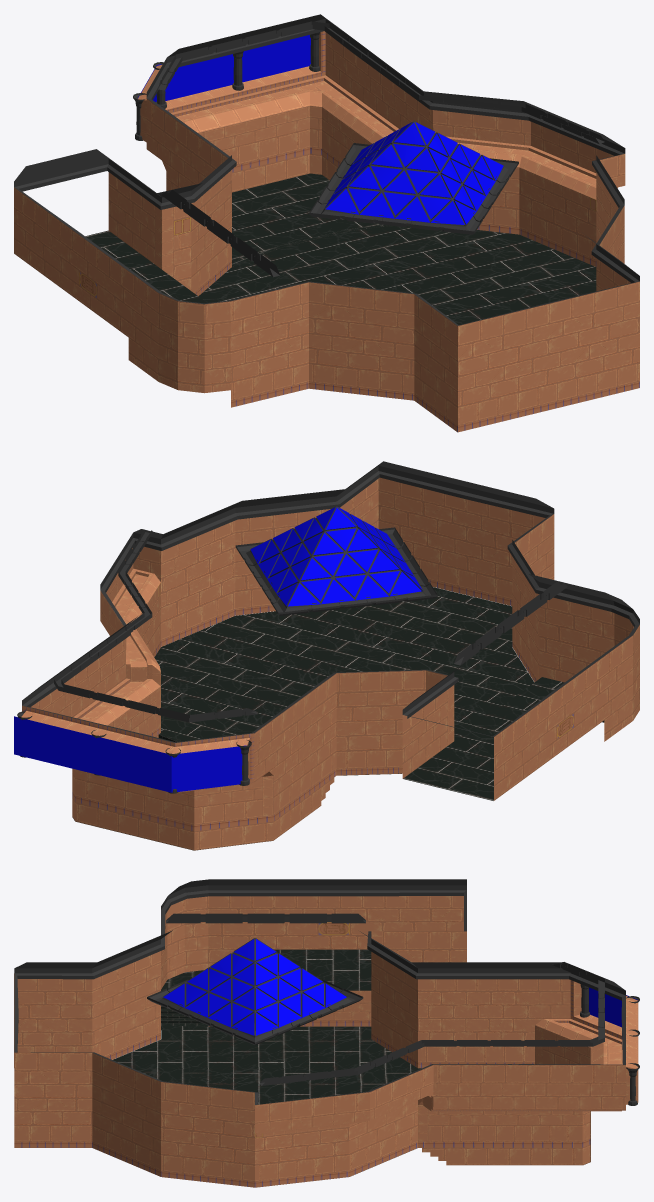
3 renders of one model, top to bottom at view 1: azimuth 30°, elevation 25°; view 2: azimuth 150°, elevation 25°; view 3: azimuth 270°, elevation 25°, orthographic. The views are drawn at different scales.
Parts seen in each view (by area): view 1: SM_LDWall_001, SM_Rest_001, SM_LdGround_001; view 2: SM_LDWall_001, SM_Rest_001, SM_LdGround_001; view 3: SM_LDWall_001, SM_Rest_001, SM_LdGround_001.
Boxes of the visible parts, box(x1,y1,x2,y2) form: SM_LDWall_001: box(14, 31, 639, 432); SM_Rest_001: box(14, 14, 639, 325); SM_LdGround_001: box(85, 173, 596, 324); SM_LDWall_001: box(21, 477, 639, 850); SM_Rest_001: box(14, 461, 639, 793); SM_LdGround_001: box(72, 587, 604, 850); SM_LDWall_001: box(14, 896, 638, 1187); SM_Rest_001: box(14, 879, 639, 1105); SM_LdGround_001: box(113, 949, 590, 1175).
Size of the model in its own units: 3133 by 1273 by 3857.
